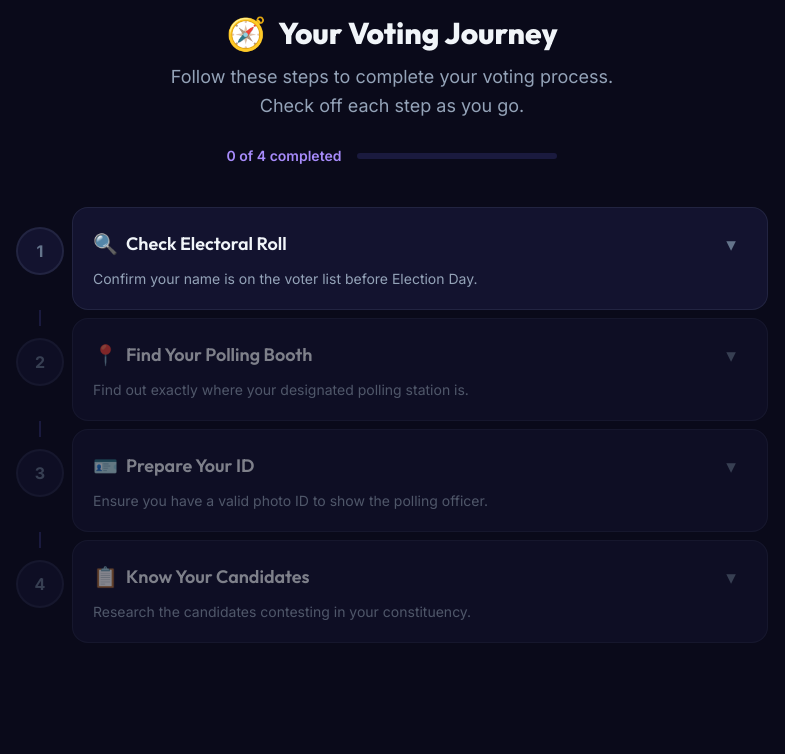
Test case: StepGuide Component › can expand a step to see substeps
The width and height of the screenshot is (785, 754).
Click the button with class "guide__expand-btn" in the row of "Check Electoral Roll".
click(731, 244)  # box [715,228,747,260]
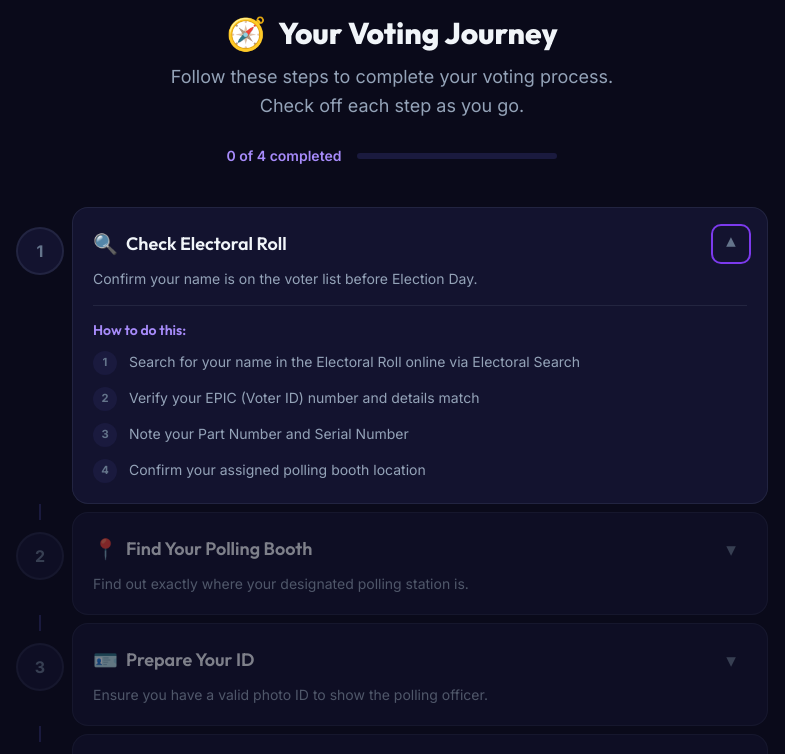
Now the heading "How to do this:" is shown, box [93,321,186,339]
